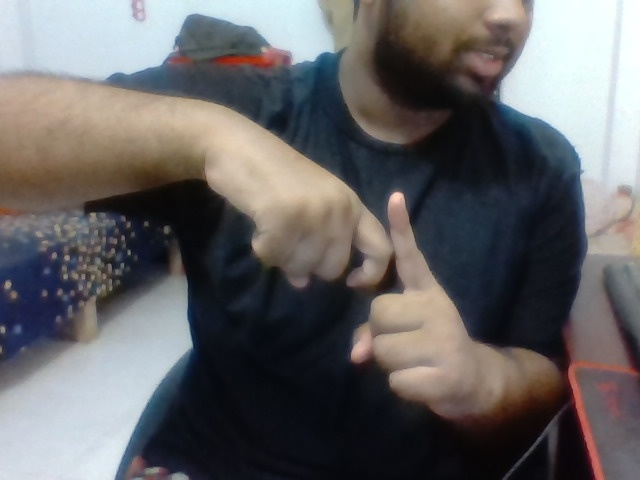K: (233, 99, 498, 437)
